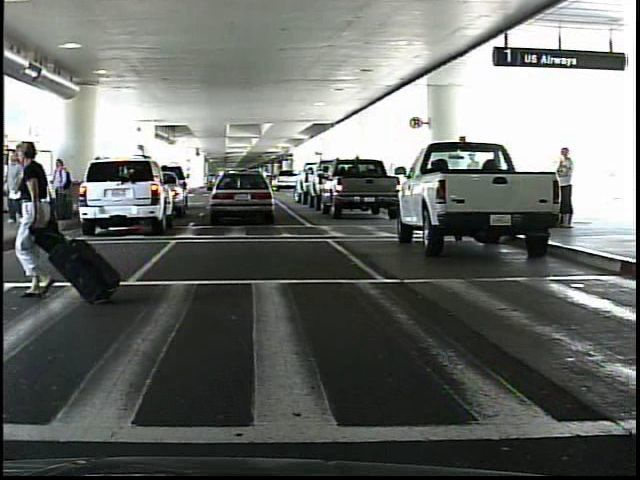person: (10, 142, 66, 291), (543, 149, 580, 230), (4, 152, 30, 225), (48, 157, 70, 223)
